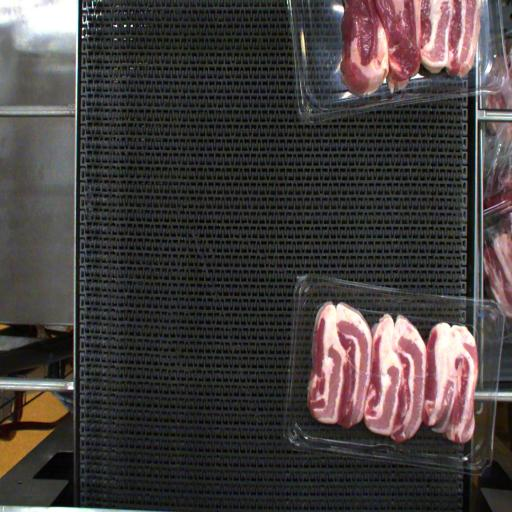wrinkle: (352, 364, 392, 382)
